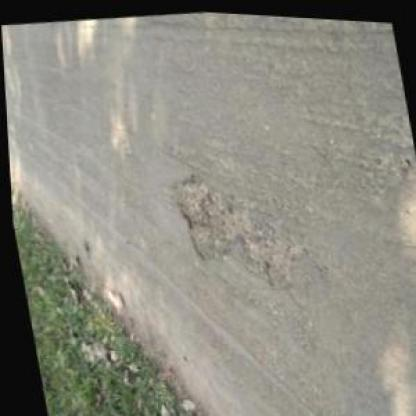pothole: (165, 164, 241, 270), (236, 226, 306, 294)
